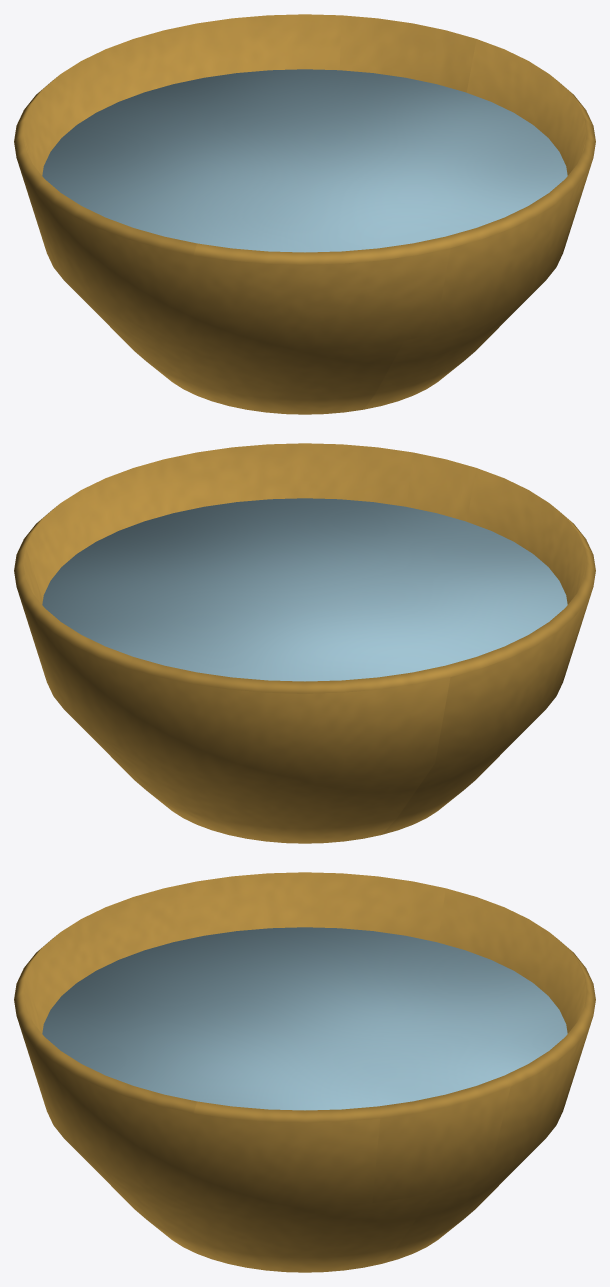
Rendered from z2_cuenco_clara.obj.
3 views of the same model, one above another, from view 1: azimuth 30°, elevation 25°; view 2: azimuth 150°, elevation 25°; view 3: azimuth 270°, elevation 25° (orthographic).
Visible parts, largest first — view 1: z2_cuenco_clara; view 2: z2_cuenco_clara; view 3: z2_cuenco_clara.
Part boxes in pixels (x1,y1,x2,y2): z2_cuenco_clara: (14, 14, 595, 414); z2_cuenco_clara: (14, 443, 595, 843); z2_cuenco_clara: (14, 872, 595, 1272).
Size of the model in its own units: 0.19 by 0.078 by 0.19.
Materials: 2 (2 with a texture image).
